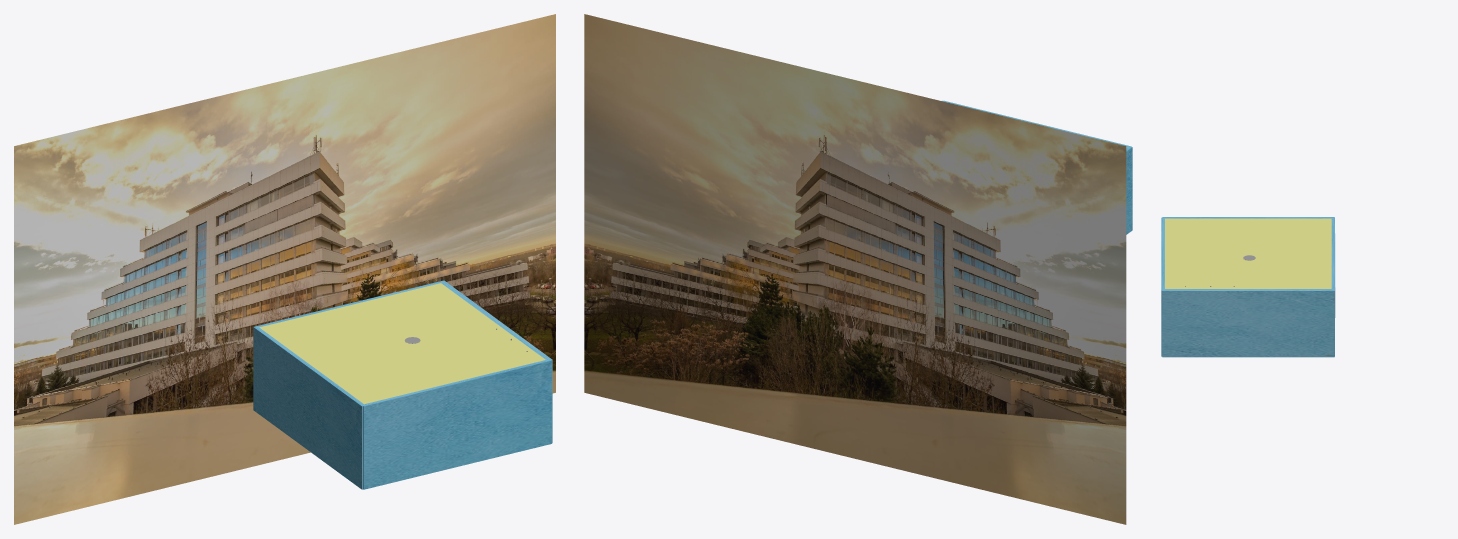
The model's file is office.glb.
3 views of the same model, side by side, from view 1: azimuth 30°, elevation 25°; view 2: azimuth 150°, elevation 25°; view 3: azimuth 270°, elevation 25° (orthographic). The views are drawn at different scales.
Parts seen in each view (by area): view 1: Feistu_background, ceiling, Cube.007, Cube.006, Cube.001; view 2: Feistu_background; view 3: Cube.001, ceiling, Cube.007, Cube.006, Cube.008.
Part boxes in pixels (left/top/right/bottom): Feistu_background: left=14, top=14, right=555, bottom=524; ceiling: left=259, top=283, right=545, bottom=404; Cube.007: left=363, top=358, right=551, bottom=489; Cube.006: left=253, top=326, right=369, bottom=489; Cube.001: left=442, top=280, right=552, bottom=443; Feistu_background: left=584, top=14, right=1126, bottom=524; Cube.001: left=1162, top=288, right=1334, bottom=357; ceiling: left=1165, top=218, right=1331, bottom=288; Cube.007: left=1161, top=217, right=1168, bottom=356; Cube.006: left=1162, top=217, right=1334, bottom=220; Cube.008: left=1327, top=217, right=1334, bottom=356.
Bounding box in the file's own units: 8.19 × 5.47 × 4.65.
56 materials, 12 textured.
